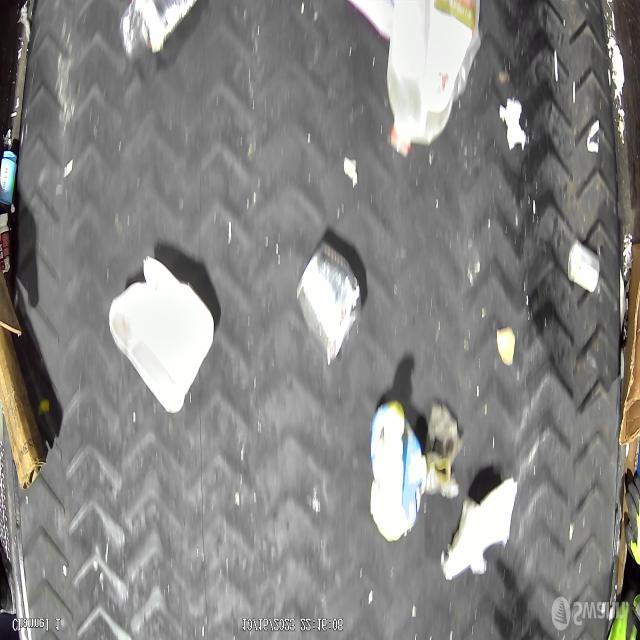can: (296, 239, 362, 368)
milk_jug: (388, 0, 484, 157)
